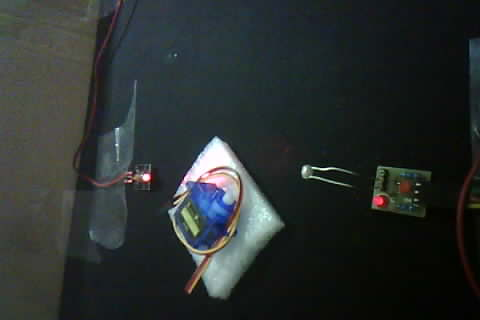motor: (162, 145, 264, 298)
